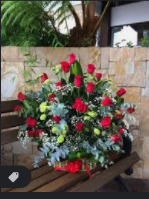RedRose: (69, 97, 88, 115), (64, 52, 86, 67), (58, 58, 74, 74), (100, 97, 115, 111), (107, 134, 119, 148), (115, 125, 129, 136), (24, 118, 37, 129), (117, 86, 128, 99), (38, 74, 51, 84), (44, 92, 57, 102), (52, 80, 67, 88), (86, 64, 95, 77), (71, 78, 84, 87), (85, 82, 95, 93), (127, 107, 139, 115), (10, 105, 22, 112), (76, 124, 85, 133), (114, 110, 122, 120), (95, 72, 100, 84), (28, 131, 35, 139), (109, 122, 115, 131), (21, 92, 29, 98), (55, 117, 60, 122)
